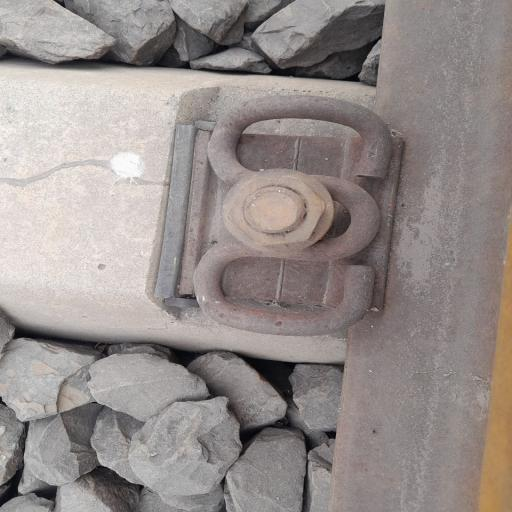bolt: (210, 160, 340, 265)
clip: (187, 92, 407, 335)
